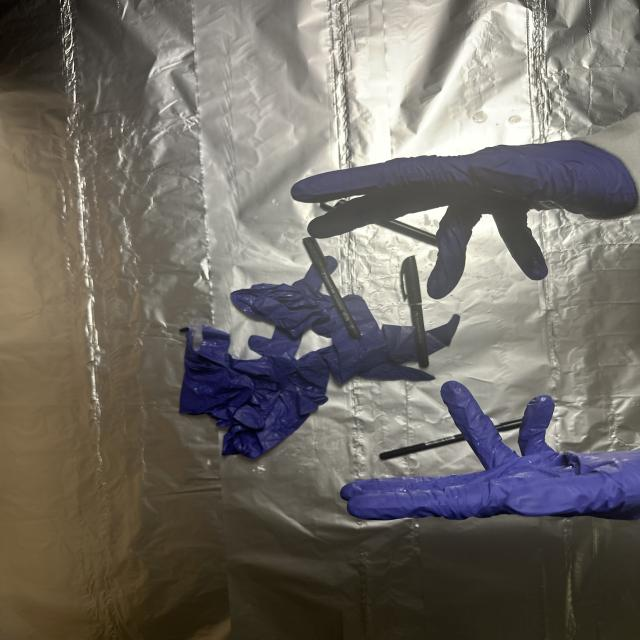gloves_contaminated: (291, 117, 640, 299), (341, 381, 640, 520)
